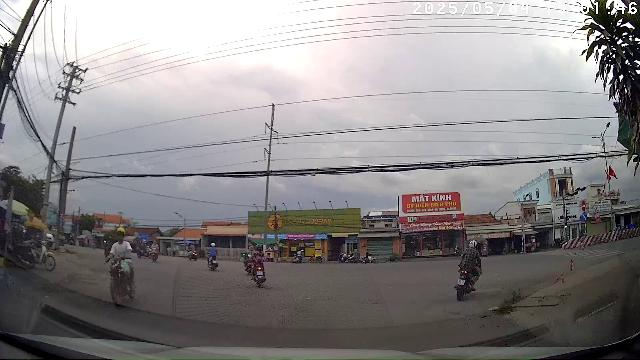102-cam-di-nguoc-chieu: (581, 201, 586, 211)
302a-huong-phai-di-vong-chuong-ngai-vat-1: (581, 212, 587, 222)
